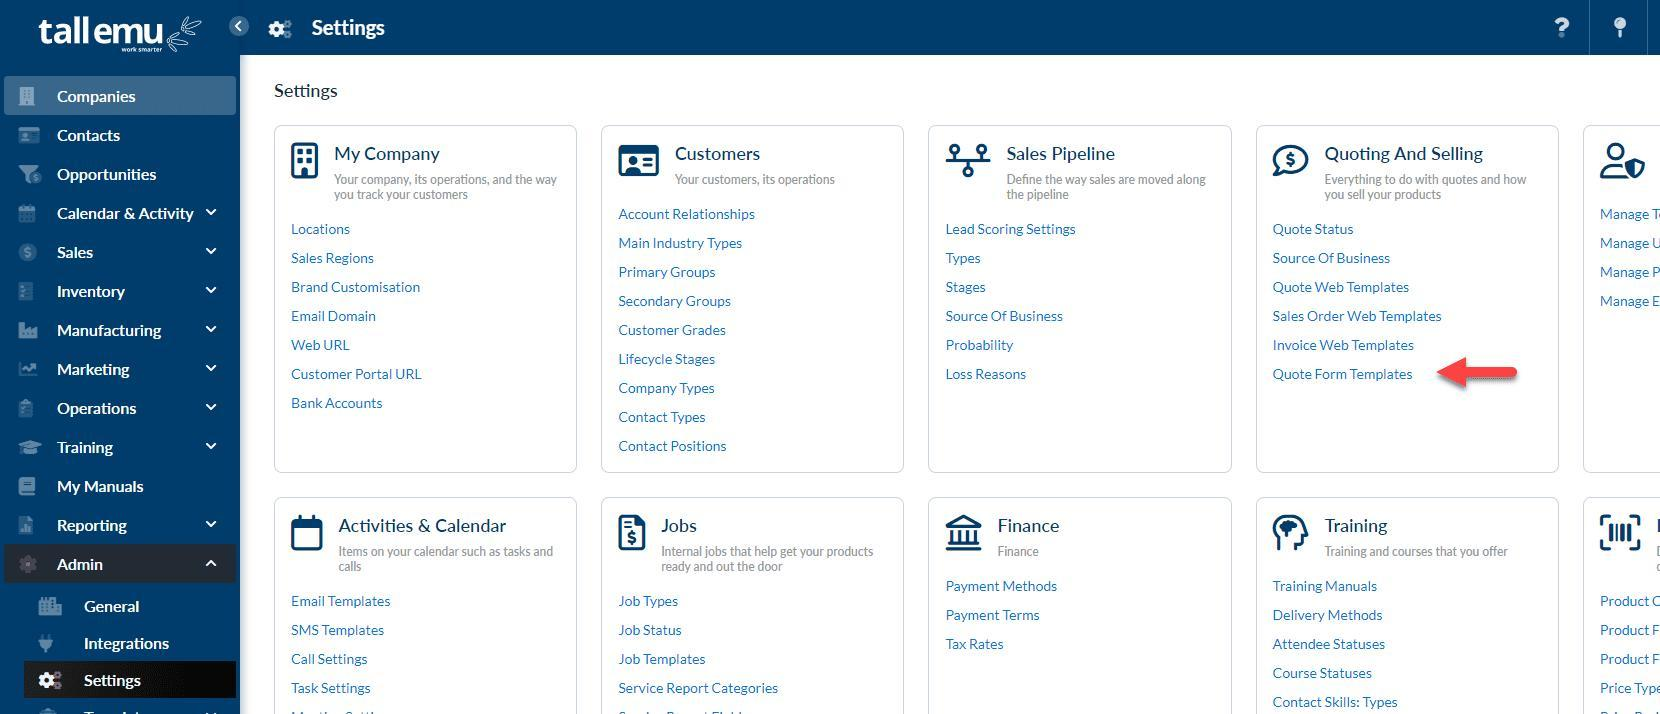icon: (938, 513, 991, 559), (1601, 139, 1643, 196), (1595, 510, 1646, 555), (1267, 508, 1313, 556), (611, 513, 649, 559), (614, 144, 667, 177), (1269, 144, 1313, 183), (944, 144, 991, 176), (293, 516, 330, 555), (285, 141, 317, 182), (14, 160, 46, 190), (1547, 13, 1574, 47), (224, 13, 255, 42), (35, 593, 66, 622), (32, 627, 59, 658), (36, 666, 64, 696), (1613, 14, 1637, 46), (16, 202, 42, 229), (18, 553, 43, 581), (268, 21, 297, 44), (16, 321, 46, 343), (16, 510, 37, 540), (16, 439, 46, 460), (18, 475, 42, 500), (18, 126, 46, 148), (17, 361, 42, 383), (17, 86, 40, 109), (13, 400, 40, 420), (17, 246, 40, 266), (18, 285, 37, 304)
